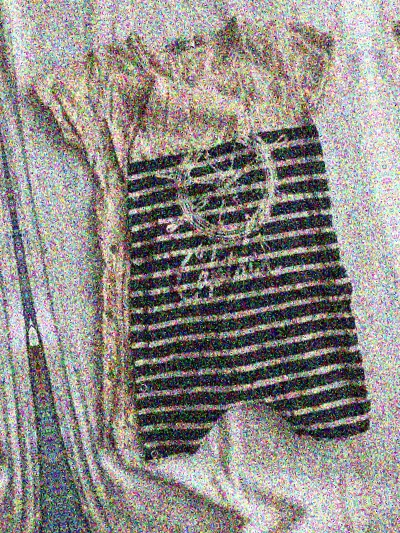Body: (9, 0, 400, 483), (0, 41, 32, 533), (372, 0, 400, 424)
